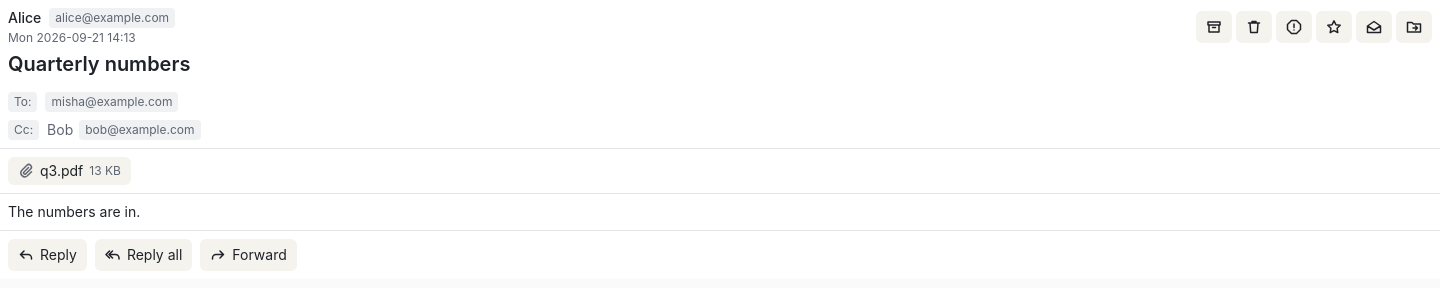
Test case: the reading pane › copies an address at a press, and says so
This screenshot has width=1440, height=288.
Click the button with aria-label "Copy alice@example.com" at [112, 18], box [49,8,175,28]
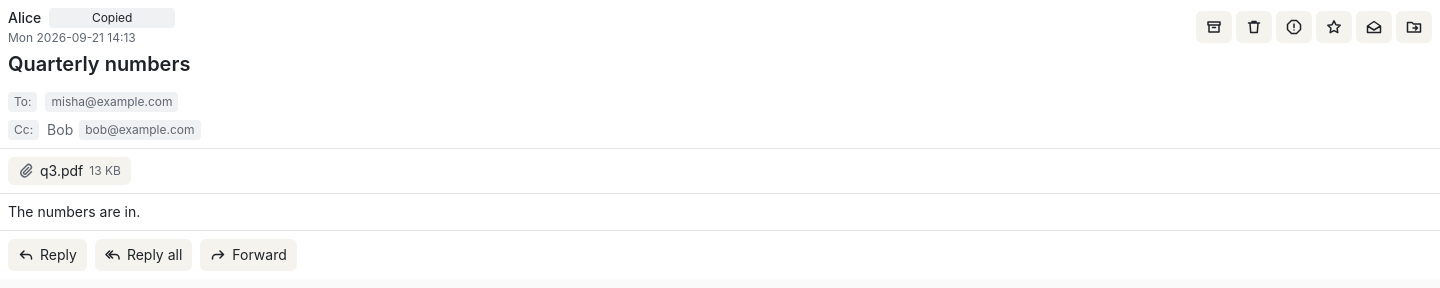
Expected: the text "Copied" is shown, [92,10,132,25]
